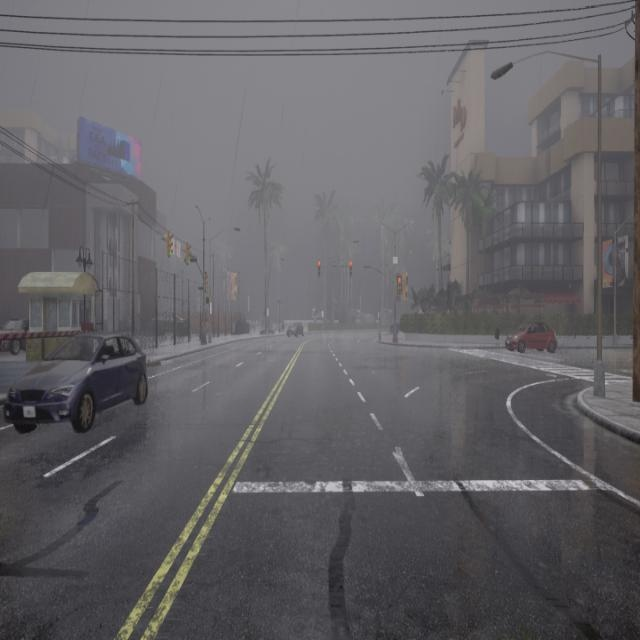bien_chi_dan: (168, 232, 174, 257), (186, 242, 192, 264), (397, 276, 402, 294), (205, 271, 209, 293), (349, 259, 353, 278), (318, 259, 322, 278), (318, 260, 321, 266), (169, 250, 172, 256), (398, 278, 402, 282), (350, 260, 352, 266), (206, 287, 208, 292), (188, 259, 190, 264)
